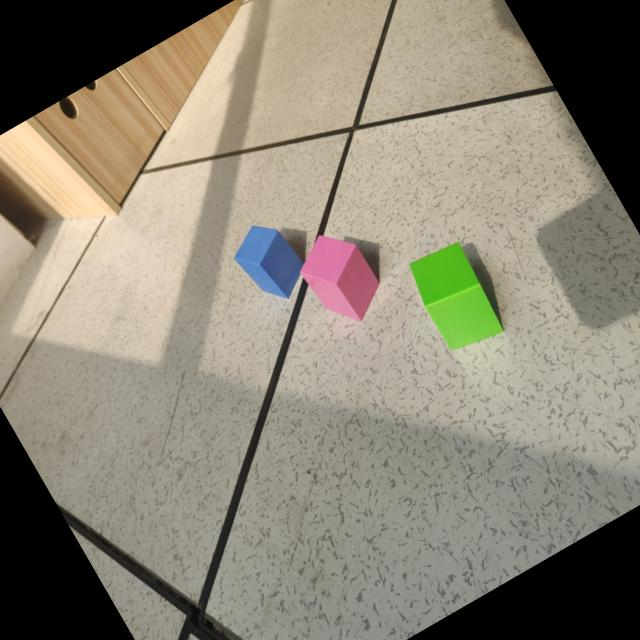blue: (234, 226, 307, 302)
green: (411, 243, 504, 352)
pink: (302, 235, 382, 323)
